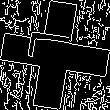L_E: (28, 36, 82, 74)
